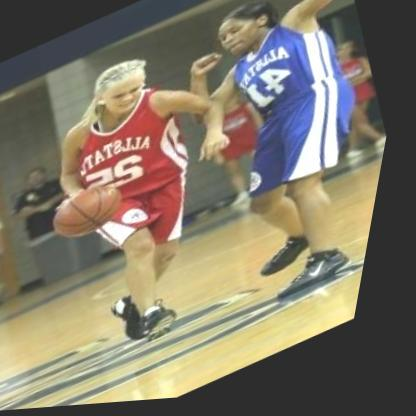basketball: (46, 172, 143, 253)
